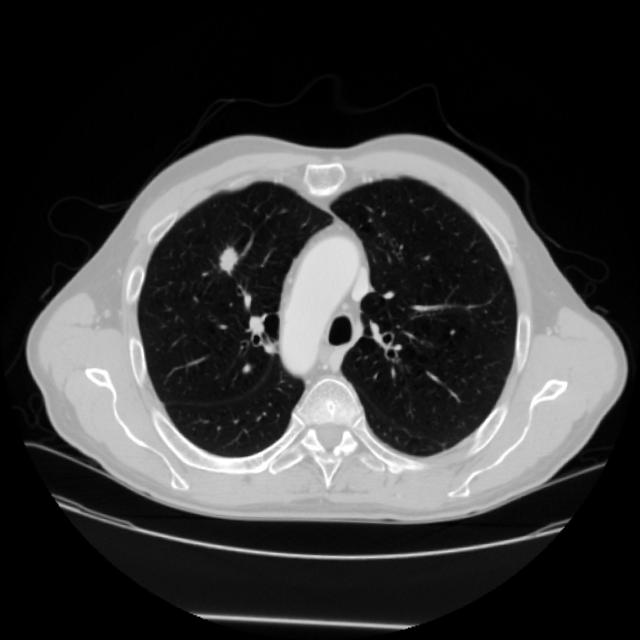nodule: (205, 235, 252, 282)
